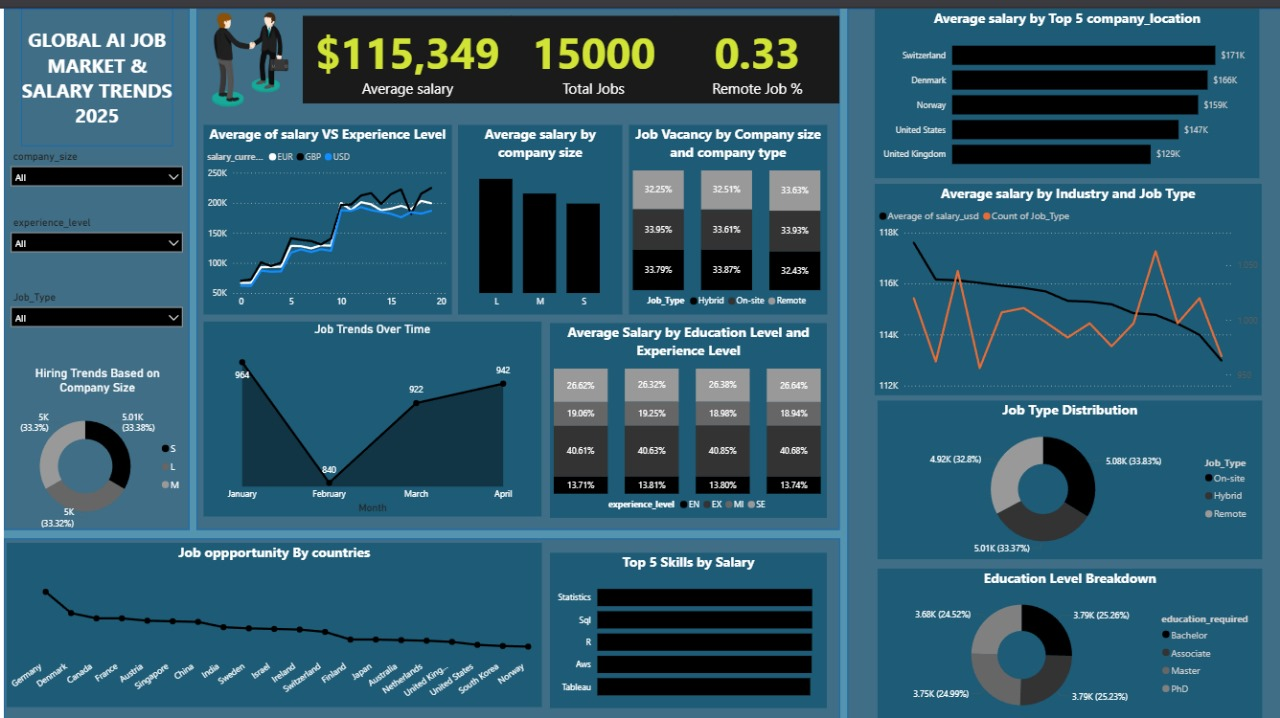

This screenshot's page, from the dashboard's own definition file:
{"tool":"powerbi","page":{"name":"Page 1","canvas":[1800,1000],"ordinal":0},"visuals":[{"type":"image","box":[560,347.5,150,160],"z":0},{"type":"shape","box":[270,0,900,730],"z":1000},{"type":"shape","box":[1180,0,620,1000],"z":2000},{"type":"shape","box":[0,742.5,1170,257.5],"z":3000},{"type":"shape","box":[0,0,260,730],"z":4000},{"type":"shape","box":[25,0,212.5,192.5],"z":5000},{"type":"card","fields":{"Values":["ai_job_dataset.Average salary"]},"box":[417.5,10,292.5,122.5],"z":6000},{"type":"card","fields":{"Values":["ai_job_dataset.Total Jobs"]},"box":[710,10,230,122.5],"z":7000},{"type":"card","fields":{"Values":["ai_job_dataset.RemoteJobPct"]},"box":[940,10,230,122.5],"z":8000},{"type":"lineChart","title":"Average of salary VS Experience Level","fields":{"Category":["ai_job_dataset.years_experience"],"Y":["Avg(ai_job_dataset.salary_usd)"],"Series":["ai_job_dataset.salary_currency"]},"box":[280,162.5,347,265],"z":9000},{"type":"barChart","title":"Average salary by Top 5 company_location","fields":{"Category":["ai_job_dataset.company_location"],"Y":["ai_job_dataset.Average salary"]},"box":[1219,0,538.3,237],"z":10000},{"type":"clusteredColumnChart","title":"Average salary by company size","fields":{"Category":["ai_job_dataset.company_size"],"Y":["Avg(ai_job_dataset.salary_usd)"]},"box":[635,162.5,230,265],"z":11000},{"type":"hundredPercentStackedColumnChart","title":"Average Salary by Education Level and Experience Level","fields":{"Category":["explode_table.education_required"],"Series":["explode_table.experience_level"],"Y":["Avg(explode_table.salary_usd)"]},"box":[765,440,387.5,272.5],"z":12000},{"type":"barChart","title":"Top 5 Skills by Salary","fields":{"Y":["explode_table.Skill Avg Salary"],"Category":["explode_table.skill"]},"box":[765,762.5,387.5,217.5],"z":13000},{"type":"slicer","fields":{"Values":["ai_job_dataset.company_size"]},"box":[0,192.5,260,92.5],"z":14000},{"type":"slicer","fields":{"Values":["ai_job_dataset.experience_level"]},"box":[0,285,260,92.5],"z":15000},{"type":"slicer","fields":{"Values":["ai_job_dataset.Remote_Type"]},"box":[0,390,260,92.5],"z":16000},{"type":"image","box":[280,0,130,142.5],"z":17000},{"type":"areaChart","title":"Job Trends Over Time ","fields":{"Category":["ai_job_dataset.posting_date.Variation.Date Hierarchy.Month"],"Y":["ai_job_dataset.Job_Posts_By_Month_2025"]},"box":[280,437.5,472.5,272.5],"z":18000},{"type":"donutChart","title":"Hiring Trends Based on Company Size","fields":{"Category":["ai_job_dataset.company_size"],"Y":["CountNonNull(ai_job_dataset.job_id)"]},"box":[2,500,258,238],"z":19000},{"type":"donutChart","title":" Job Type Distribution","fields":{"Category":["ai_job_dataset.Job_Type"],"Y":["CountNonNull(ai_job_dataset.job_id)"]},"box":[1221.8,549.7,538.3,222.2],"z":20000},{"type":"pieChart","title":"Education Level Breakdown","fields":{"Category":["ai_job_dataset.education_required"],"Y":["CountNonNull(ai_job_dataset.job_id)"]},"box":[1221.8,783.2,538.3,216.5],"z":21000},{"type":"lineChart","title":"Job oppportunity By countries","fields":{"Category":["ai_job_dataset.company_location"],"Y":["CountNonNull(ai_job_dataset.job_id)"]},"box":[3,748.5,748.5,230.3],"z":22000},{"type":"hundredPercentStackedColumnChart","title":"Job Vacancy by Company size and company type ","fields":{"Category":["ai_job_dataset.company_size"],"Y":["CountNonNull(ai_job_dataset.job_id)"],"Series":["ai_job_dataset.Job_Type"]},"box":[875,162.5,277.5,265],"z":23000},{"type":"lineChart","title":"Average salary by Industry and Job Type","fields":{"Category":["ai_job_dataset.industry"],"Y":["Avg(ai_job_dataset.salary_usd)"],"Y2":["CountNonNull(ai_job_dataset.Job_Type)"]},"box":[1219,244.9,541.1,296.2],"z":24000}]}

Visuals, with their boxes in screenshot pixels (x1, y1, x2, y2), scaled from the page's 1800x1000 canvas onto the 1280x718 screenshot:
image: box=[398, 250, 505, 364]
shape: box=[192, 0, 832, 524]
shape: box=[839, 0, 1279, 717]
shape: box=[0, 533, 832, 717]
shape: box=[0, 0, 185, 524]
shape: box=[18, 0, 169, 138]
card - ai_job_dataset.Average salary: box=[297, 7, 505, 95]
card - ai_job_dataset.Total Jobs: box=[505, 7, 668, 95]
card - ai_job_dataset.RemoteJobPct: box=[668, 7, 832, 95]
"Average of salary VS Experience Level" lineChart: box=[199, 117, 446, 307]
"Average salary by Top 5 company_location" barChart: box=[867, 0, 1250, 170]
"Average salary by company size" clusteredColumnChart: box=[452, 117, 615, 307]
"Average Salary by Education Level and Experience Level" hundredPercentStackedColumnChart: box=[544, 316, 820, 512]
"Top 5 Skills by Salary" barChart: box=[544, 547, 820, 704]
slicer - ai_job_dataset.company_size: box=[0, 138, 185, 205]
slicer - ai_job_dataset.experience_level: box=[0, 205, 185, 271]
slicer - ai_job_dataset.Remote_Type: box=[0, 280, 185, 346]
image: box=[199, 0, 292, 102]
"Job Trends Over Time " areaChart: box=[199, 314, 535, 510]
"Hiring Trends Based on Company Size" donutChart: box=[1, 359, 185, 530]
" Job Type Distribution" donutChart: box=[869, 395, 1252, 554]
"Education Level Breakdown" pieChart: box=[869, 562, 1252, 717]
"Job oppportunity By countries" lineChart: box=[2, 537, 534, 703]
"Job Vacancy by Company size and company type " hundredPercentStackedColumnChart: box=[622, 117, 820, 307]
"Average salary by Industry and Job Type" lineChart: box=[867, 176, 1252, 389]
